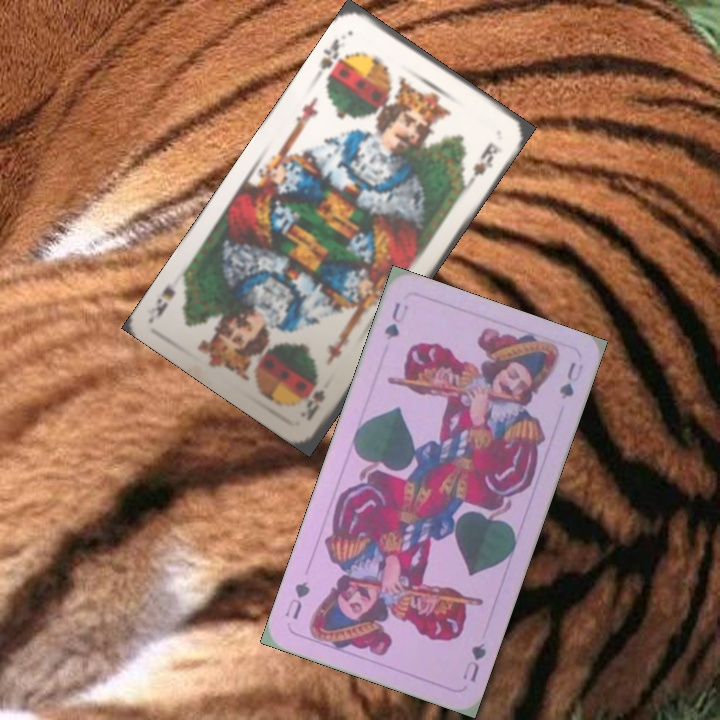GU: (458, 638, 489, 685), (380, 298, 412, 343)
SK: (314, 33, 350, 86), (296, 385, 328, 423)
